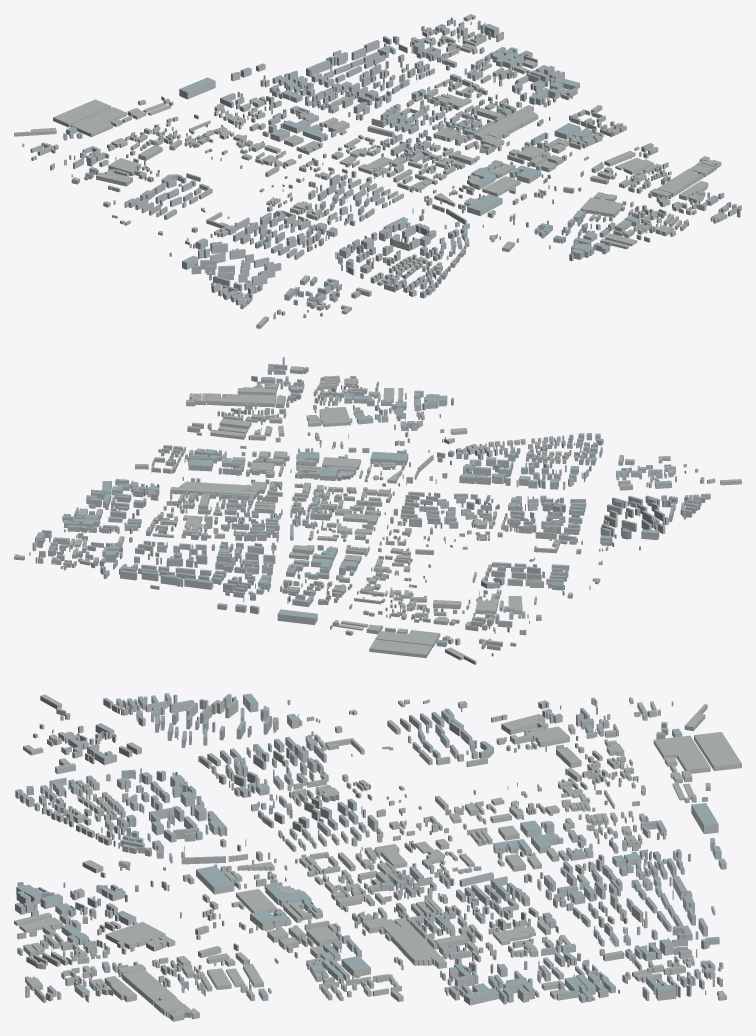
3 views of the same model, one above another, from view 1: azimuth 30°, elevation 25°; view 2: azimuth 150°, elevation 25°; view 3: azimuth 270°, elevation 25° (orthographic). The views are drawn at different scales.
Visible parts, largest first — view 1: 上海全域建筑分块 · mapped building neighborhood; view 2: 上海全域建筑分块 · mapped building neighborhood; view 3: 上海全域建筑分块 · mapped building neighborhood.
Part boxes in pixels (left/top/right/bottom): 上海全域建筑分块 · mapped building neighborhood: left=14, top=14, right=741, bottom=328; 上海全域建筑分块 · mapped building neighborhood: left=14, top=357, right=741, bottom=664; 上海全域建筑分块 · mapped building neighborhood: left=14, top=693, right=741, bottom=1021.
Bounding box in the file's own units: 2258 × 35.7 × 2150.
